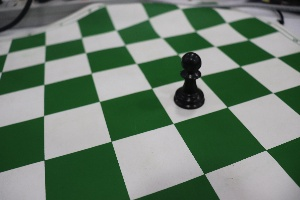black_pawn: (169, 34, 207, 119)
